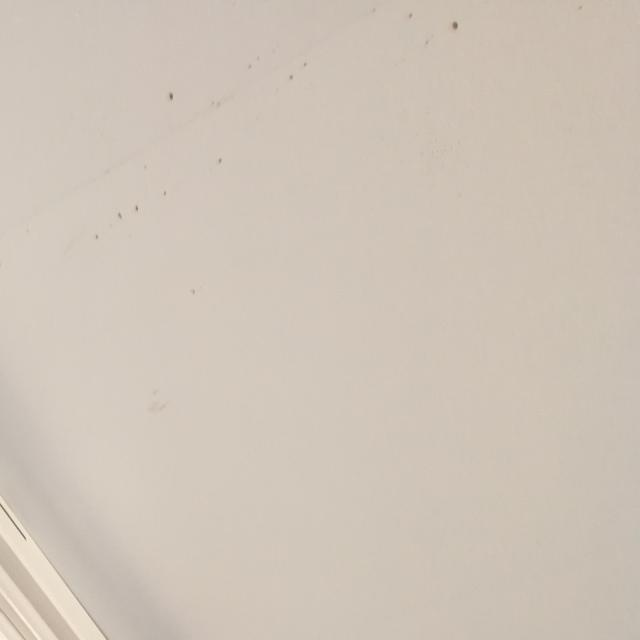fluorescent tube: (0, 309, 361, 640)
